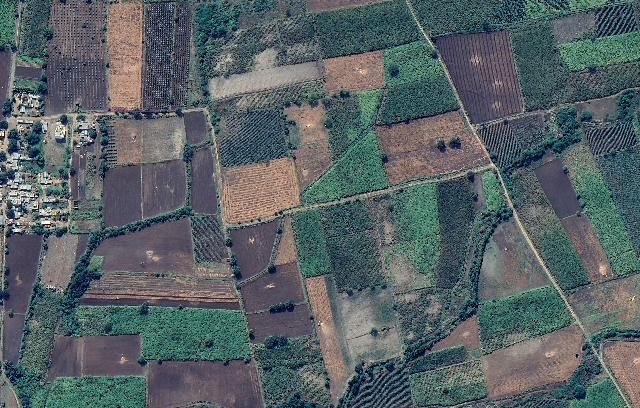DryFarms: (222, 157, 302, 224), (109, 0, 143, 110), (324, 53, 386, 97)
EmptyFarms: (435, 29, 523, 125), (484, 323, 582, 398), (91, 214, 196, 275), (148, 358, 257, 408), (47, 334, 149, 383), (209, 60, 321, 104), (114, 113, 183, 164), (241, 262, 306, 315), (230, 219, 280, 286), (411, 314, 482, 358), (6, 234, 43, 315), (534, 159, 581, 219), (247, 303, 314, 345), (37, 231, 78, 293), (143, 160, 184, 220), (104, 163, 143, 226), (192, 141, 215, 212), (3, 313, 25, 363), (183, 110, 208, 147)
Farms: (372, 175, 479, 295), (499, 164, 591, 292), (208, 76, 323, 169), (561, 140, 640, 274), (71, 306, 252, 361), (291, 199, 388, 291), (372, 37, 461, 127), (473, 285, 577, 360), (46, 0, 107, 112), (304, 126, 389, 203), (309, 0, 423, 57), (254, 335, 333, 408), (595, 142, 640, 267), (510, 19, 568, 114), (144, 0, 191, 115), (323, 88, 385, 163), (17, 285, 64, 377), (409, 358, 488, 407), (563, 59, 640, 103), (45, 375, 146, 408), (560, 32, 640, 72)
